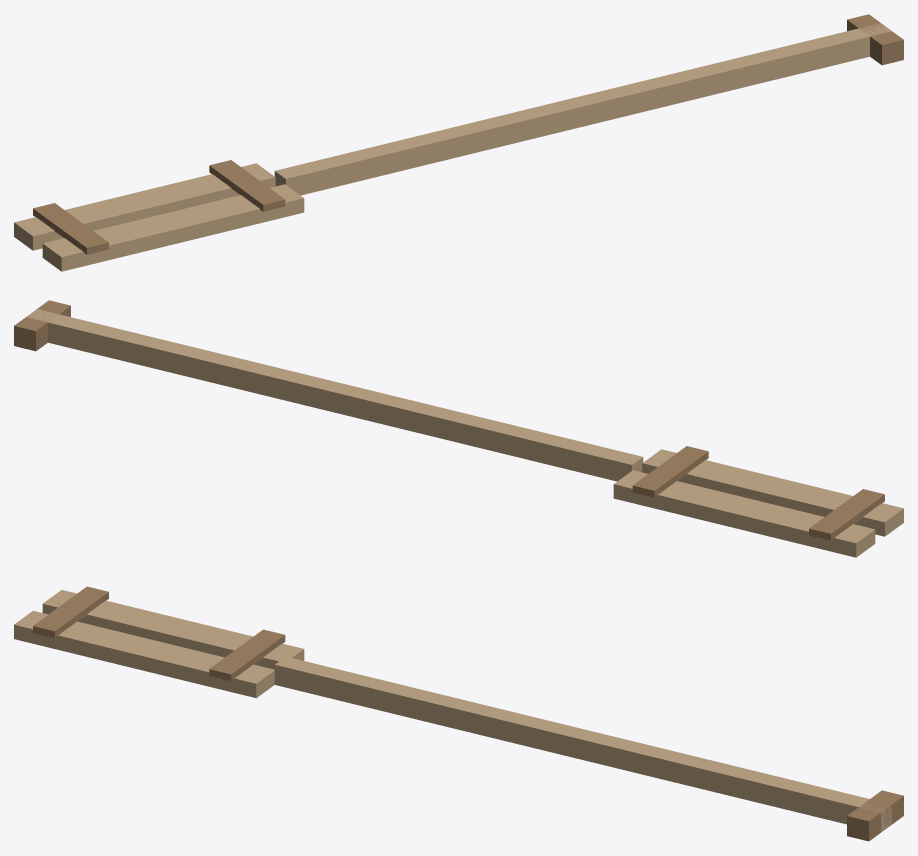
The model's file is prop-mash-paddle.fbx.
The picture shows the model from 3 angles, top to bottom: view 1: azimuth 30°, elevation 25°; view 2: azimuth 150°, elevation 25°; view 3: azimuth 330°, elevation 25°; orthographic projection.
Parts seen in each view (by area): view 1: prop-mash-paddle; view 2: prop-mash-paddle; view 3: prop-mash-paddle.
Part boxes in pixels (x1,y1,x2,y2): prop-mash-paddle: (14, 14, 903, 271); prop-mash-paddle: (14, 300, 903, 557); prop-mash-paddle: (14, 586, 903, 841).
Size of the model in its own units: 154 by 3.6 by 17.
